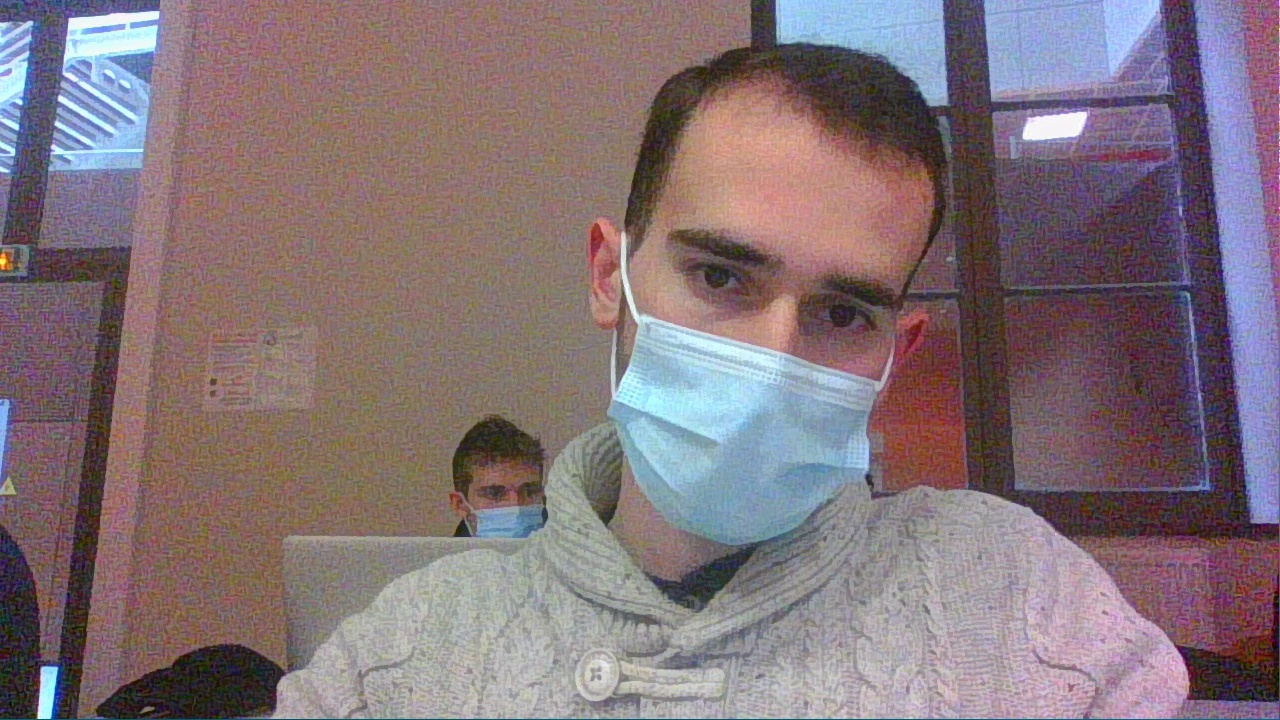mask: (574, 40, 928, 541), (451, 415, 541, 535)
